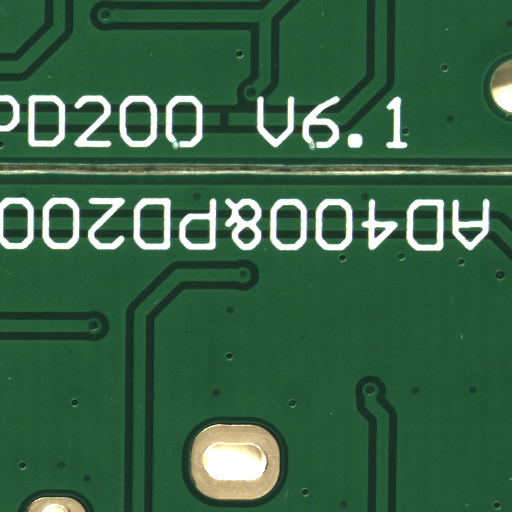Open_circuit: (224, 119, 237, 136)
